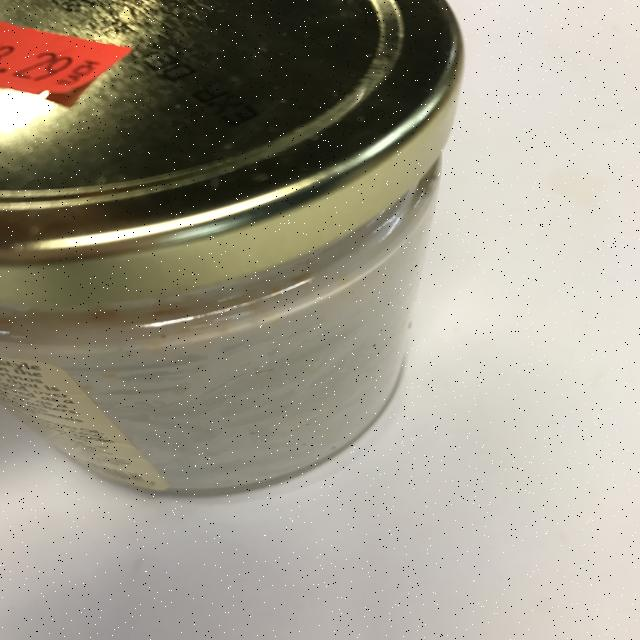glass: (3, 5, 457, 498)
